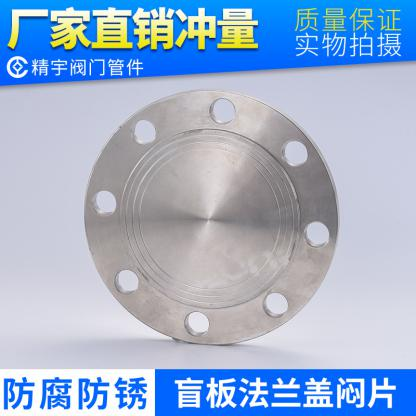FOD: (81, 87, 338, 349)
